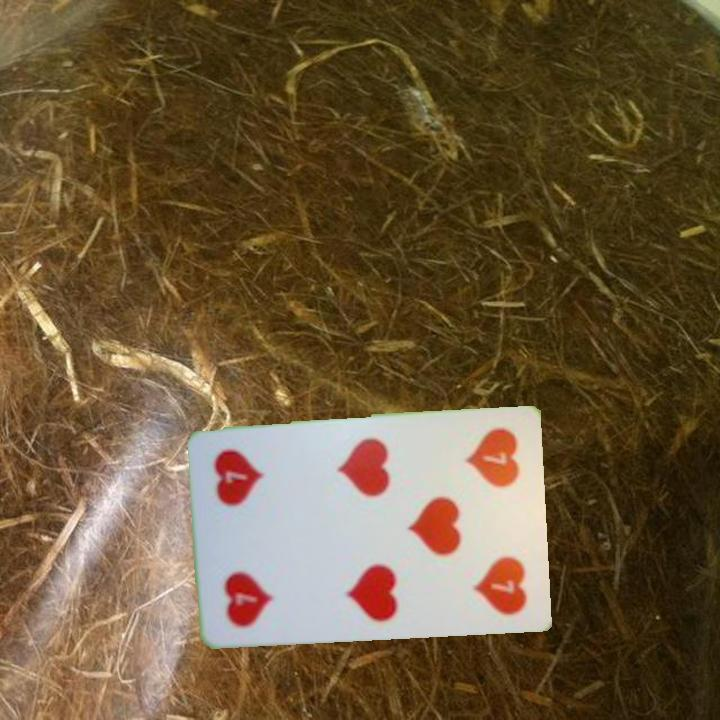h_7.png: (439, 421, 530, 526), (208, 528, 299, 632)
